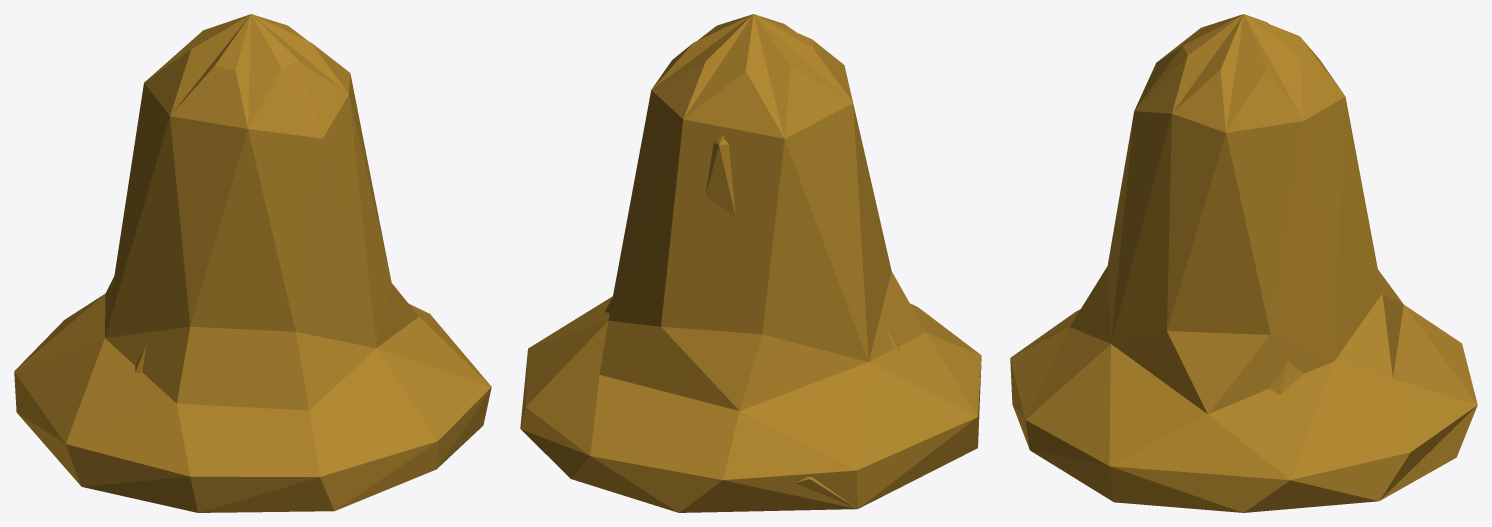
File: ChurchBell_02.fbx
3 views of the same model, side by side, from view 1: azimuth 30°, elevation 25°; view 2: azimuth 150°, elevation 25°; view 3: azimuth 270°, elevation 25° (orthographic).
Visible parts, largest first — view 1: ChurchBell_02; view 2: ChurchBell_02; view 3: ChurchBell_02.
Part boxes in pixels (x1,y1,x2,y2): ChurchBell_02: [14, 14, 491, 512]; ChurchBell_02: [520, 14, 981, 512]; ChurchBell_02: [1010, 14, 1477, 512].
Size of the model in its own units: 0.9957 by 0.948 by 0.9886.
